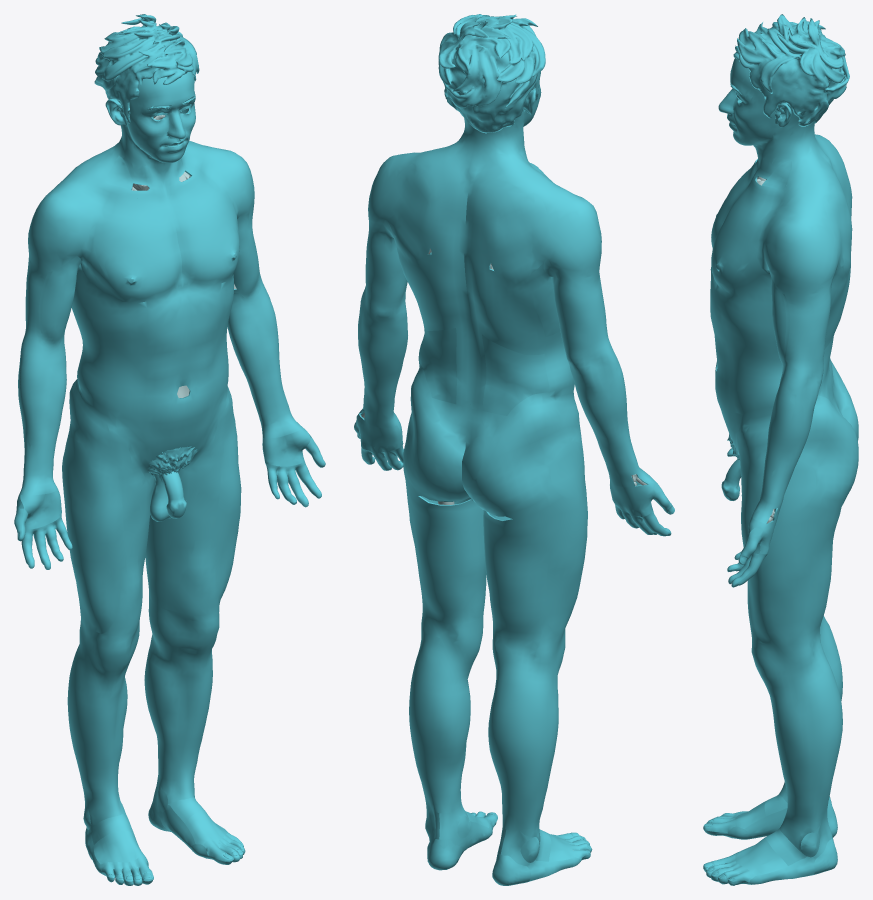
The model's file is z-anatomy-1.4.0-shell-skeleton-core.glb.
The picture shows the model from 3 angles, left to right: view 1: azimuth 30°, elevation 25°; view 2: azimuth 150°, elevation 25°; view 3: azimuth 270°, elevation 25°; orthographic projection. The views are drawn at different scales.
Visible parts, largest first — view 1: body-shell__Anterior_region_of_thighr, body-shell__Anterior_region_of_thighl, body-shell__Hairs_of_head, body-shell__Anterior_region_of_legl, body-shell__Anterior_region_of_legr, body-shell__Pectoral_regionr, body-shell__Deltoid_regionr, body-shell__Anterior_region_of_forearml, body-shell__Anterior_region_of_forearmr, body-shell__Lateral_region_of_thoraxr, body-shell__Lateral_region_of_abdomenr, body-shell__Pectoral_regionl (+46 smaller); view 2: body-shell__Posterior_region_of_thighr, body-shell__Hairs_of_head, body-shell__Gluteal_regionr, body-shell__Posterior_region_of_thighl, body-shell__Posterior_region_of_legr, body-shell__Posterior_region_of_legl, body-shell__Gluteal_regionl, body-shell__Scapular_regionr, body-shell__Posterior_region_of_armr, body-shell__Infrascapular_regionr, body-shell__Scapular_regionl, body-shell__Posterior_region_of_forearmr (+32 smaller); view 3: body-shell__Hairs_of_head, body-shell__Anterior_region_of_thighl, body-shell__Posterior_region_of_thighl, body-shell__Deltoid_regionl, body-shell__Gluteal_regionl, body-shell__Posterior_region_of_legl, body-shell__Lateral_region_of_thoraxl, body-shell__Anterior_region_of_legl, body-shell__Lateral_region_of_abdomenl, body-shell__Pectoral_regionl, body-shell__Posterior_region_of_arml, body-shell__Posterior_region_of_neckl (+45 smaller).
Boxes of the visible parts, x1=… form: body-shell__Anterior_region_of_thighr: x1=69, y1=382, x2=154, y2=636; body-shell__Anterior_region_of_thighl: x1=150, y1=383, x2=241, y2=615; body-shell__Hairs_of_head: x1=94, y1=14, x2=199, y2=123; body-shell__Anterior_region_of_legl: x1=153, y1=654, x2=212, y2=780; body-shell__Anterior_region_of_legr: x1=74, y1=674, x2=127, y2=799; body-shell__Pectoral_regionr: x1=94, y1=205, x2=174, y2=302; body-shell__Deltoid_regionr: x1=28, y1=174, x2=90, y2=271; body-shell__Anterior_region_of_forearml: x1=228, y1=304, x2=292, y2=425; body-shell__Anterior_region_of_forearmr: x1=22, y1=360, x2=66, y2=481; body-shell__Lateral_region_of_thoraxr: x1=71, y1=225, x2=147, y2=333; body-shell__Lateral_region_of_abdomenr: x1=77, y1=342, x2=147, y2=422; body-shell__Pectoral_regionl: x1=183, y1=179, x2=238, y2=284; body-shell__Posterior_region_of_thighr: x1=483, y1=496, x2=579, y2=640; body-shell__Hairs_of_head: x1=438, y1=14, x2=545, y2=133; body-shell__Gluteal_regionr: x1=462, y1=392, x2=567, y2=518; body-shell__Posterior_region_of_thighl: x1=404, y1=472, x2=485, y2=624; body-shell__Posterior_region_of_legr: x1=488, y1=688, x2=555, y2=830; body-shell__Posterior_region_of_legl: x1=409, y1=667, x2=468, y2=813; body-shell__Gluteal_regionl: x1=403, y1=360, x2=470, y2=501; body-shell__Scapular_regionr: x1=486, y1=191, x2=559, y2=287; body-shell__Posterior_region_of_armr: x1=543, y1=242, x2=606, y2=348; body-shell__Infrascapular_regionr: x1=475, y1=273, x2=545, y2=354; body-shell__Scapular_regionl: x1=379, y1=164, x2=436, y2=266; body-shell__Posterior_region_of_forearmr: x1=570, y1=368, x2=640, y2=475; body-shell__Hairs_of_head: x1=733, y1=14, x2=849, y2=126; body-shell__Anterior_region_of_thighl: x1=738, y1=407, x2=787, y2=646; body-shell__Posterior_region_of_thighl: x1=783, y1=506, x2=841, y2=645; body-shell__Deltoid_regionl: x1=763, y1=197, x2=834, y2=297; body-shell__Gluteal_regionl: x1=798, y1=395, x2=858, y2=509; body-shell__Posterior_region_of_legl: x1=798, y1=679, x2=842, y2=822; body-shell__Lateral_region_of_thoraxl: x1=715, y1=229, x2=846, y2=343; body-shell__Anterior_region_of_legl: x1=770, y1=696, x2=806, y2=822; body-shell__Lateral_region_of_abdomenl: x1=723, y1=347, x2=782, y2=414; body-shell__Pectoral_regionl: x1=711, y1=197, x2=769, y2=291; body-shell__Posterior_region_of_arml: x1=799, y1=248, x2=839, y2=364; body-shell__Posterior_region_of_neckl: x1=784, y1=120, x2=834, y2=199.
Bounding box in the file's own units: 0.6801 × 1.74 × 0.294.
